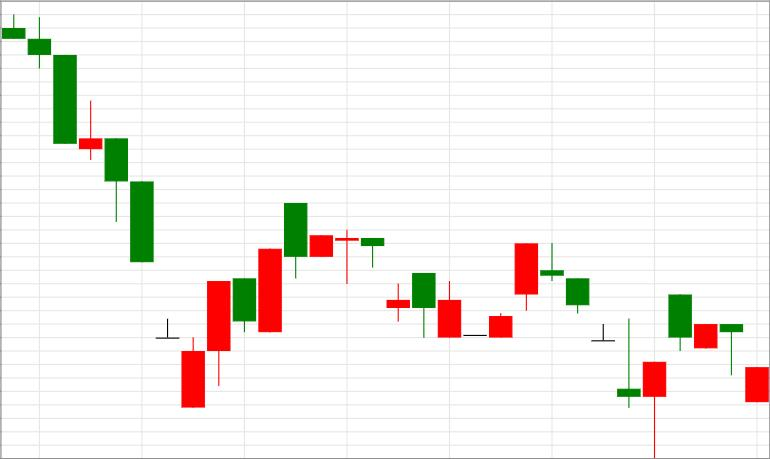hammer_rise: (516, 243, 666, 459)
